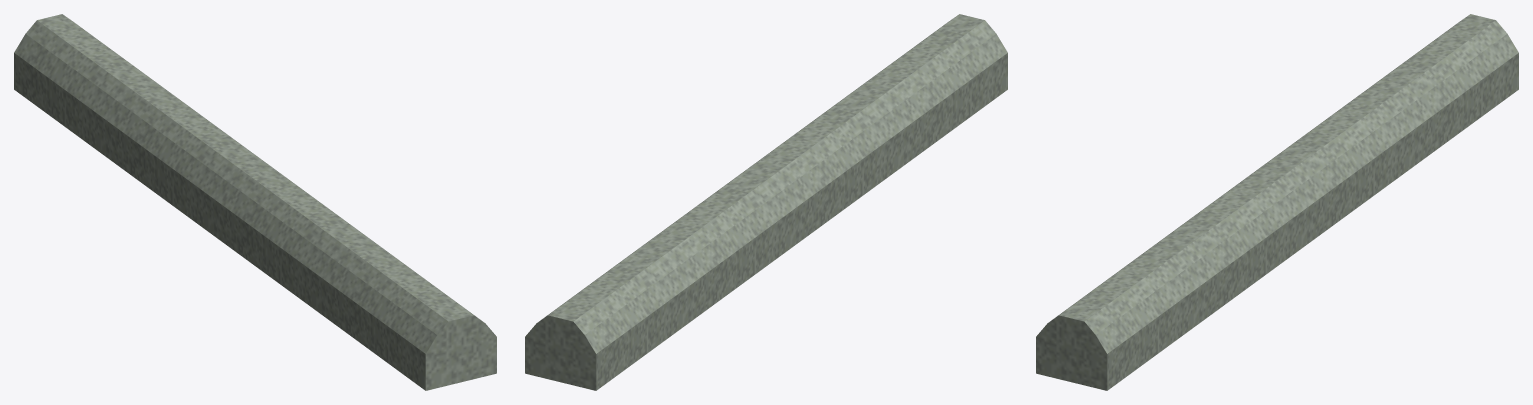
The model's file is BGN_PARKINGLOT CAP.fbx.
3 views of the same model, side by side, from view 1: azimuth 30°, elevation 25°; view 2: azimuth 150°, elevation 25°; view 3: azimuth 330°, elevation 25° (orthographic).
Visible parts, largest first — view 1: BGN_PARKINGLOT_CAP; view 2: BGN_PARKINGLOT_CAP; view 3: BGN_PARKINGLOT_CAP.
Boxes of the visible parts, box(x1,y1,x2,y2) form: BGN_PARKINGLOT_CAP: box(14, 14, 496, 390); BGN_PARKINGLOT_CAP: box(525, 14, 1007, 390); BGN_PARKINGLOT_CAP: box(1036, 14, 1518, 390).
Size of the model in its own units: 38.08 by 32.66 by 382.
